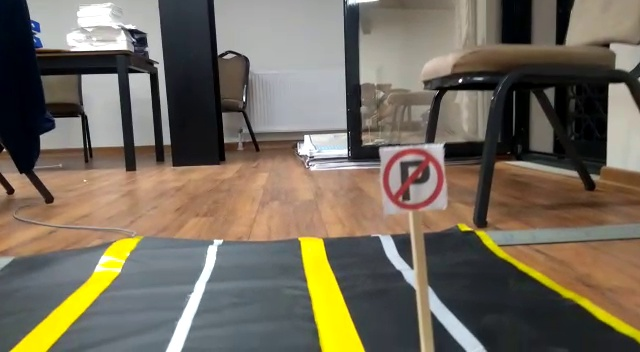park_yapilmaz: (383, 146, 444, 210)
